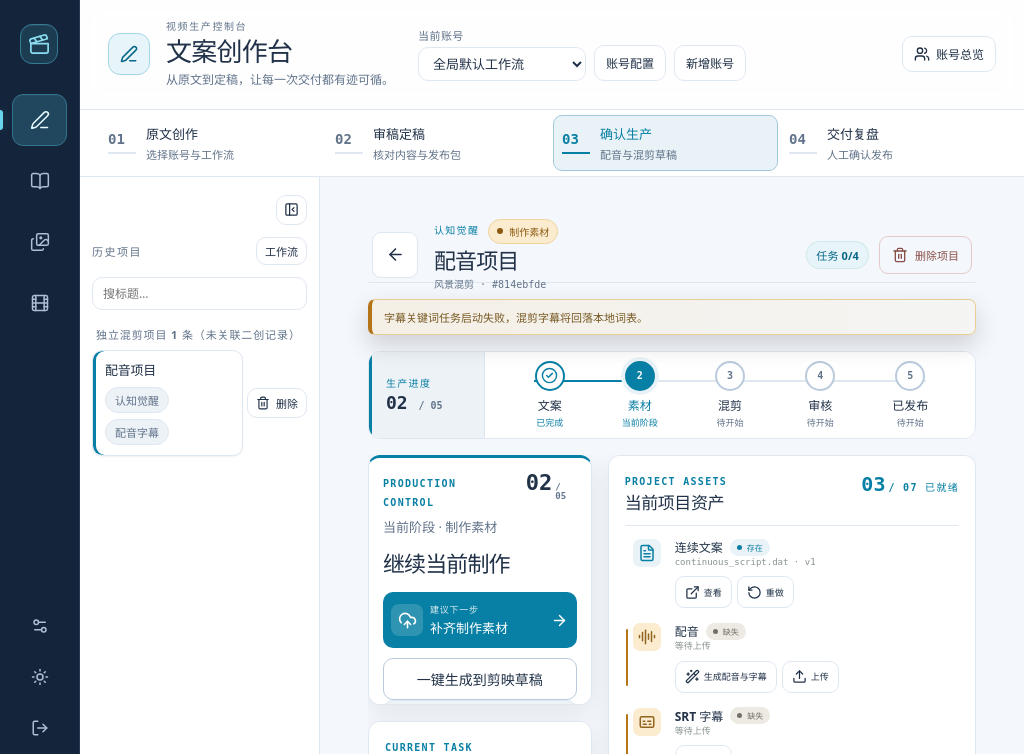
Test: the assets stage generates narration and subtitles through the project narration endpoint
Click the button "生成配音与字幕": (726, 676) [675,660,777,692]
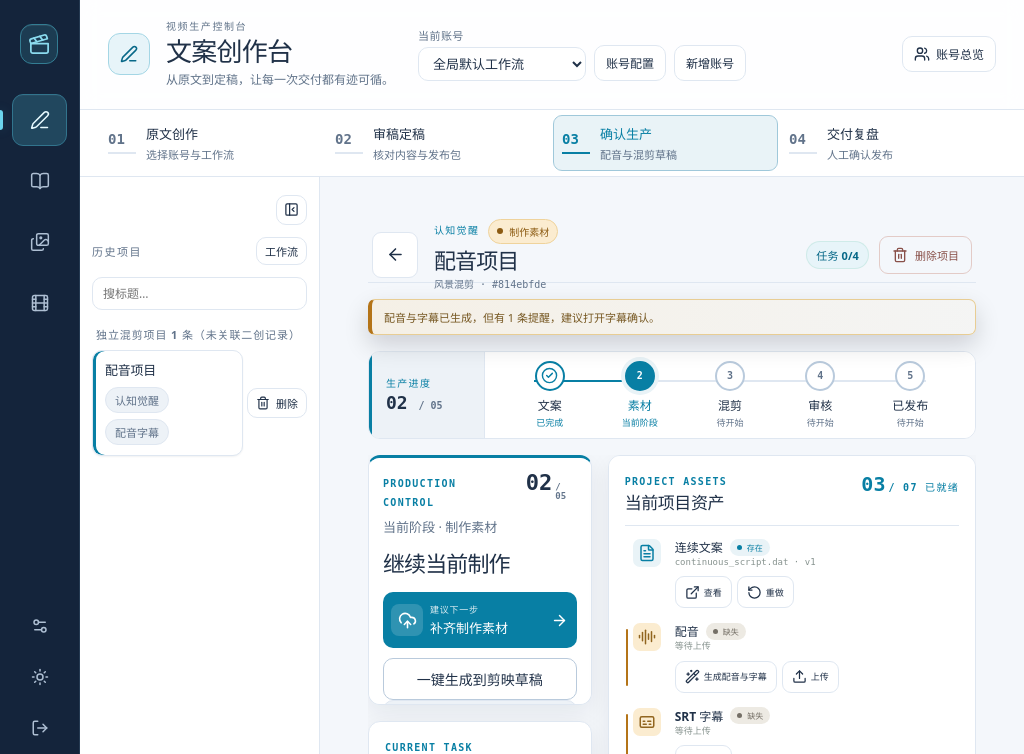
expect the text "配音与字幕已生成，但有 1 条提醒，建议打开字幕确认。" is shown: met, box [368,299,976,335]
